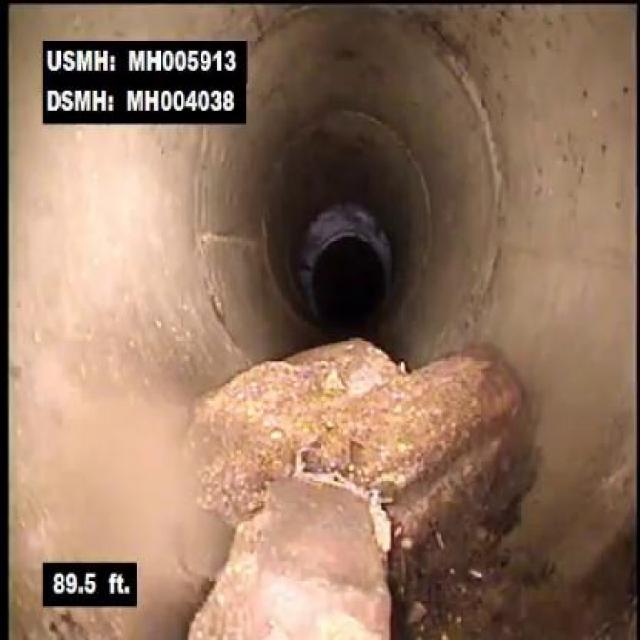Obstacle: (155, 300, 572, 638)
